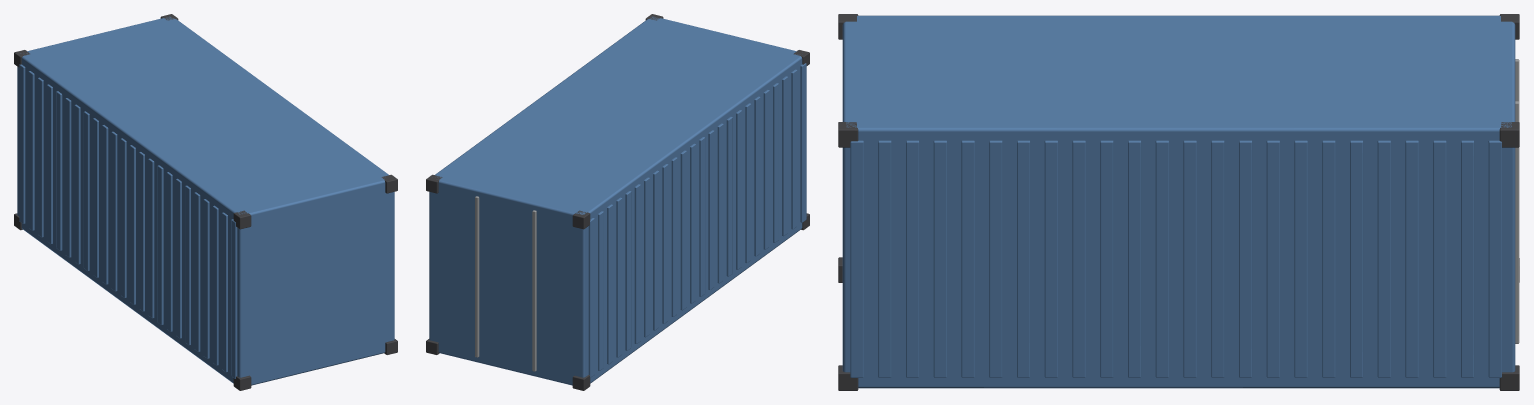
Rendered from container_2.glb.
3 renders of one model, left to right at view 1: azimuth 30°, elevation 25°; view 2: azimuth 150°, elevation 25°; view 3: azimuth 270°, elevation 25°, orthographic. The views are drawn at different scales.
Parts seen in each view (by area): view 1: Box, Rib.034, Rib.004, Rib.026, Rib.042, Rib.046, Rib.006, Rib.008, Rib.016, Rib.018, Rib.024, Rib.028 (+13 smaller); view 2: Box, Rib.010, Rib.018, Rib.040, Rib.002, Rib.012, Rib.036, Rib.022, Rib.026, Rib.030, Rib.038, Rib.008 (+15 smaller); view 3: Box, Rib.035, Rib.043, Rib.003, Rib.005, Rib.007, Rib.009, Rib.011, Rib.013, Rib.015, Rib.017, Rib.019 (+14 smaller).
Boxes of the visible parts, <box> form: Box: <box>17,16,394,385</box>; Rib.034: <box>74,104,80,264</box>; Rib.004: <box>212,205,218,365</box>; Rib.026: <box>111,131,117,291</box>; Rib.042: <box>37,77,43,237</box>; Rib.046: <box>19,64,25,223</box>; Rib.006: <box>203,199,209,358</box>; Rib.008: <box>194,192,200,351</box>; Rib.016: <box>157,165,163,324</box>; Rib.018: <box>148,158,154,318</box>; Rib.024: <box>120,138,126,298</box>; Rib.028: <box>102,125,108,284</box>; Box: <box>429,16,802,385</box>; Rib.010: <box>754,96,760,256</box>; Rib.018: <box>717,123,723,283</box>; Rib.040: <box>616,197,622,357</box>; Rib.002: <box>791,69,797,229</box>; Rib.012: <box>745,103,751,263</box>; Rib.036: <box>634,184,640,343</box>; Rib.022: <box>699,137,705,296</box>; Rib.026: <box>680,150,686,310</box>; Rib.030: <box>662,164,668,323</box>; Rib.038: <box>625,191,631,350</box>; Rib.008: <box>763,90,769,249</box>; Box: <box>842,15,1515,388</box>; Rib.035: <box>1322,140,1335,377</box>; Rib.043: <box>1433,140,1446,377</box>; Rib.003: <box>878,140,891,377</box>; Rib.005: <box>906,140,919,377</box>; Rib.007: <box>933,140,946,377</box>; Rib.009: <box>961,140,974,377</box>; Rib.011: <box>989,140,1002,377</box>; Rib.013: <box>1017,140,1030,377</box>; Rib.015: <box>1044,140,1057,377</box>; Rib.017: <box>1072,140,1085,377</box>; Rib.019: <box>1100,140,1113,377</box>.
Bounding box in the file's own units: 2.5 × 2.6 × 6.14.
